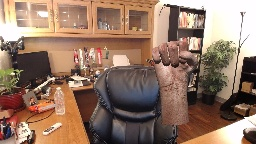Pugno: (150, 39, 198, 87)
